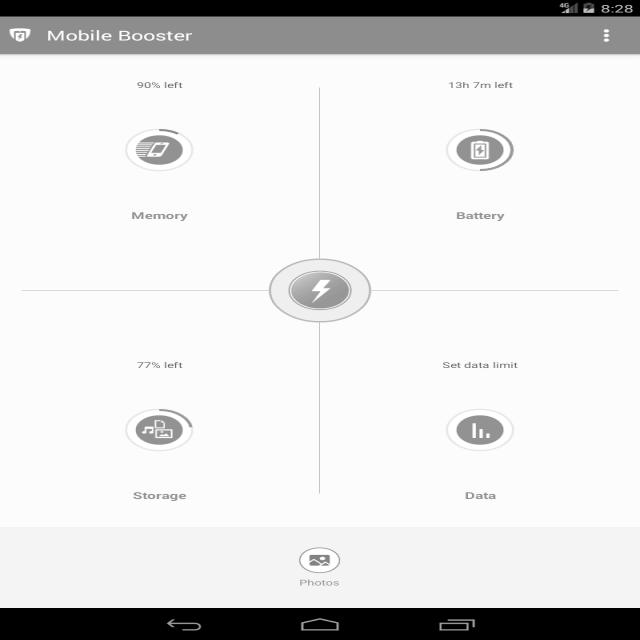ImageButton: (597, 24, 616, 46)
ImageView: (264, 258, 373, 324), (120, 405, 200, 455), (120, 129, 202, 171), (444, 129, 514, 173), (446, 411, 521, 452), (293, 547, 347, 573), (4, 27, 37, 43)
TextView: (47, 28, 197, 44), (440, 357, 526, 373), (129, 490, 194, 504), (447, 208, 508, 222), (136, 78, 194, 92)
